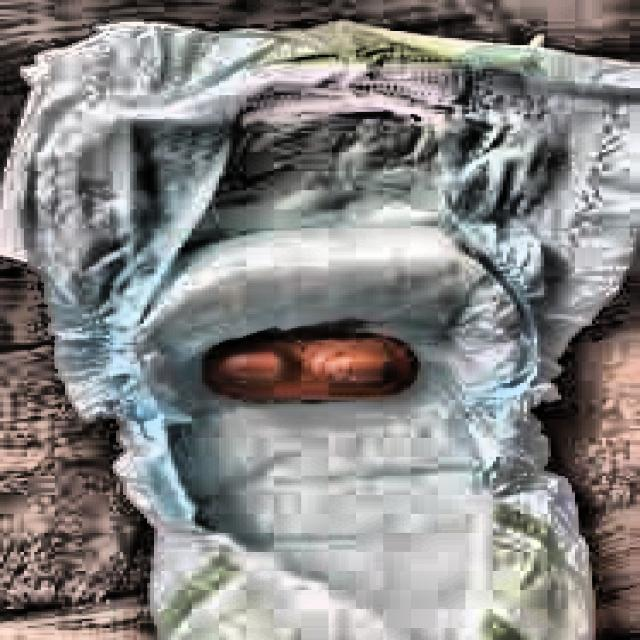trash: (0, 14, 640, 640)
